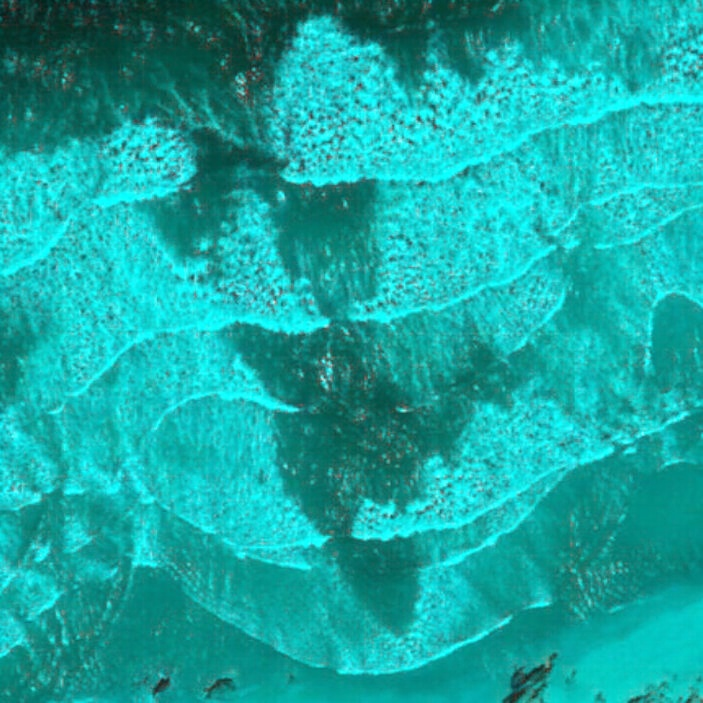rip_current: (117, 118, 457, 610)
